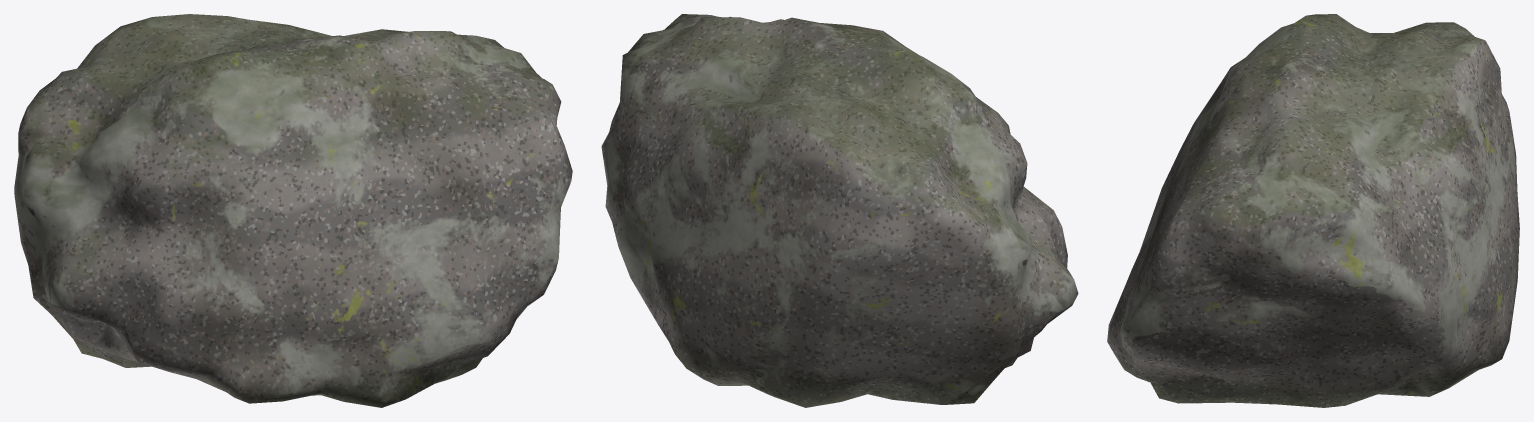
Rendered from boulder_150_LOD0.fbx.
3 views of the same model, side by side, from view 1: azimuth 30°, elevation 25°; view 2: azimuth 150°, elevation 25°; view 3: azimuth 270°, elevation 25° (orthographic).
Parts seen in each view (by area): view 1: Boulder_150_LOD0; view 2: Boulder_150_LOD0; view 3: Boulder_150_LOD0.
Part boxes in pixels (x1,y1,x2,y2): Boulder_150_LOD0: (14,14,572,407); Boulder_150_LOD0: (601,14,1078,407); Boulder_150_LOD0: (1107,14,1519,407).
Bounding box in the file's own units: 1.28 × 0.8347 × 1.
Materials: 1 (1 with a texture image).
